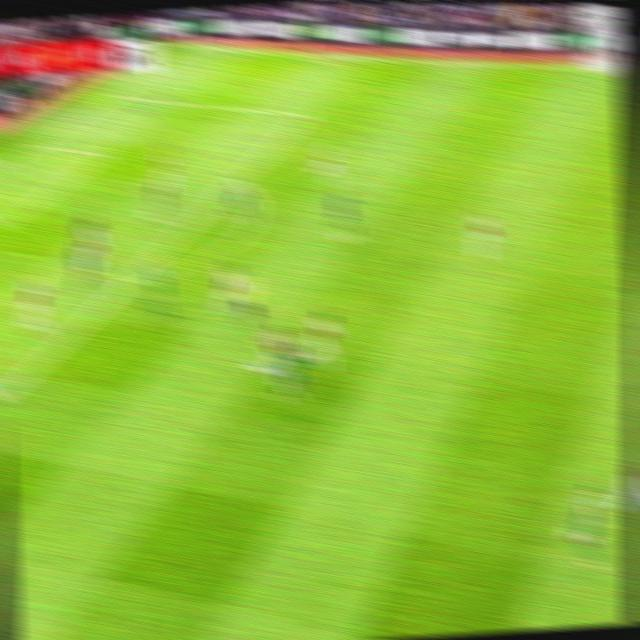bigarea_top_inner: (295, 106, 315, 124)
bigarea_top_outter: (103, 89, 124, 101)
bottom_arc_area_intersection: (117, 272, 138, 289)
corner: (182, 38, 204, 50)
smallarea_top_inner: (90, 145, 113, 160)
smallarea_top_outter: (24, 137, 44, 154)
top_arc_area_intersection: (227, 173, 246, 188)
